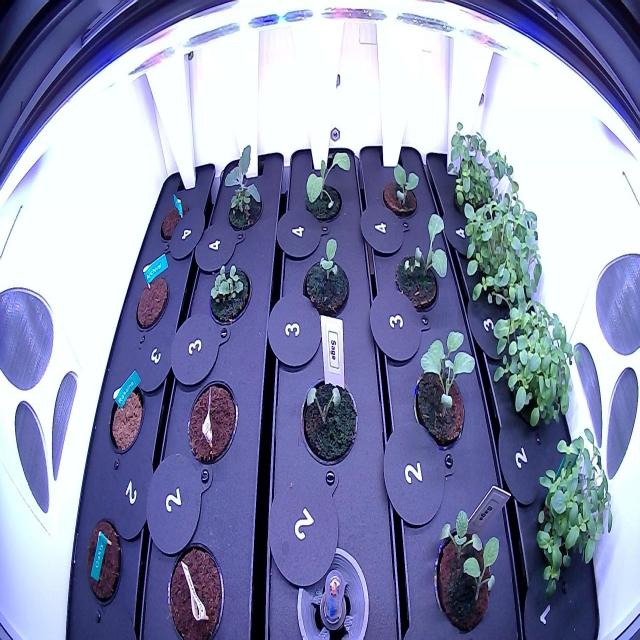pod: (162, 532, 230, 637), (181, 369, 241, 470), (84, 512, 128, 608), (106, 373, 150, 462), (132, 266, 174, 338), (158, 190, 197, 246)
